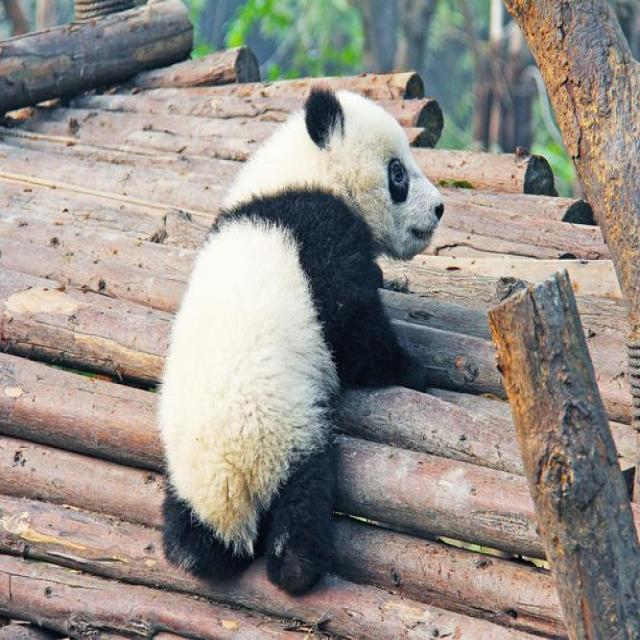panda: (155, 50, 449, 604)
